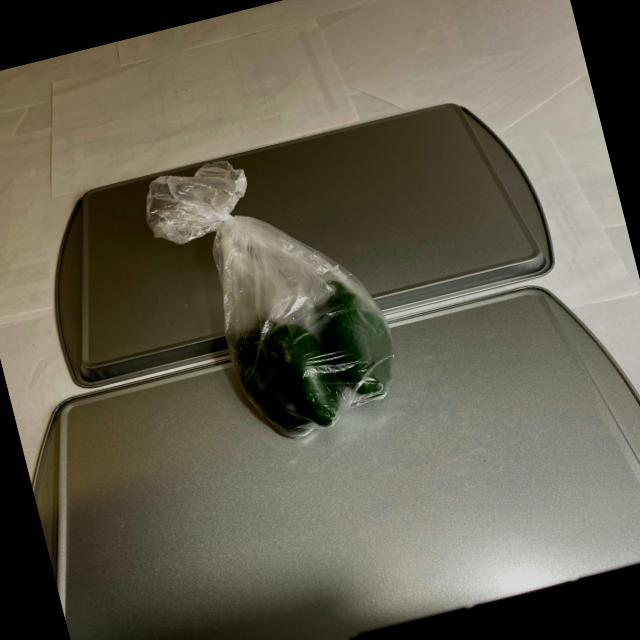chilli: (211, 268, 417, 456)
